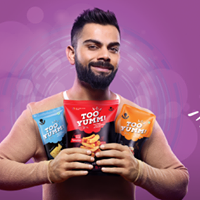plastic: (63, 100, 118, 149), (122, 105, 149, 162), (35, 115, 69, 149)
tooyumm: (75, 110, 110, 126), (121, 119, 149, 137), (41, 126, 70, 136)
wrapper: (36, 118, 154, 143)
